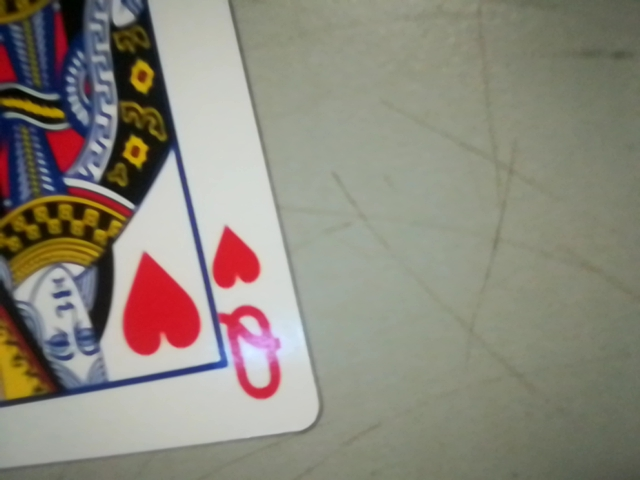hx q: (202, 214, 295, 421)
